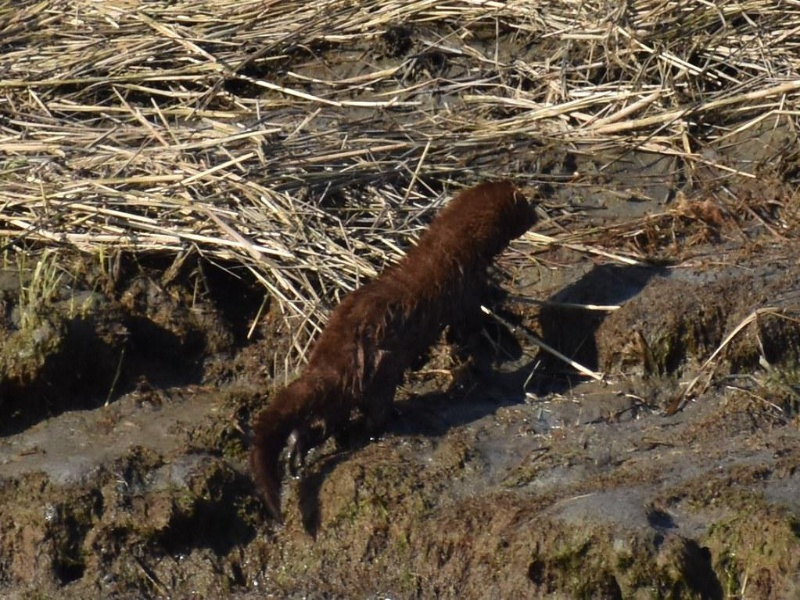minkish: (253, 173, 540, 526)
